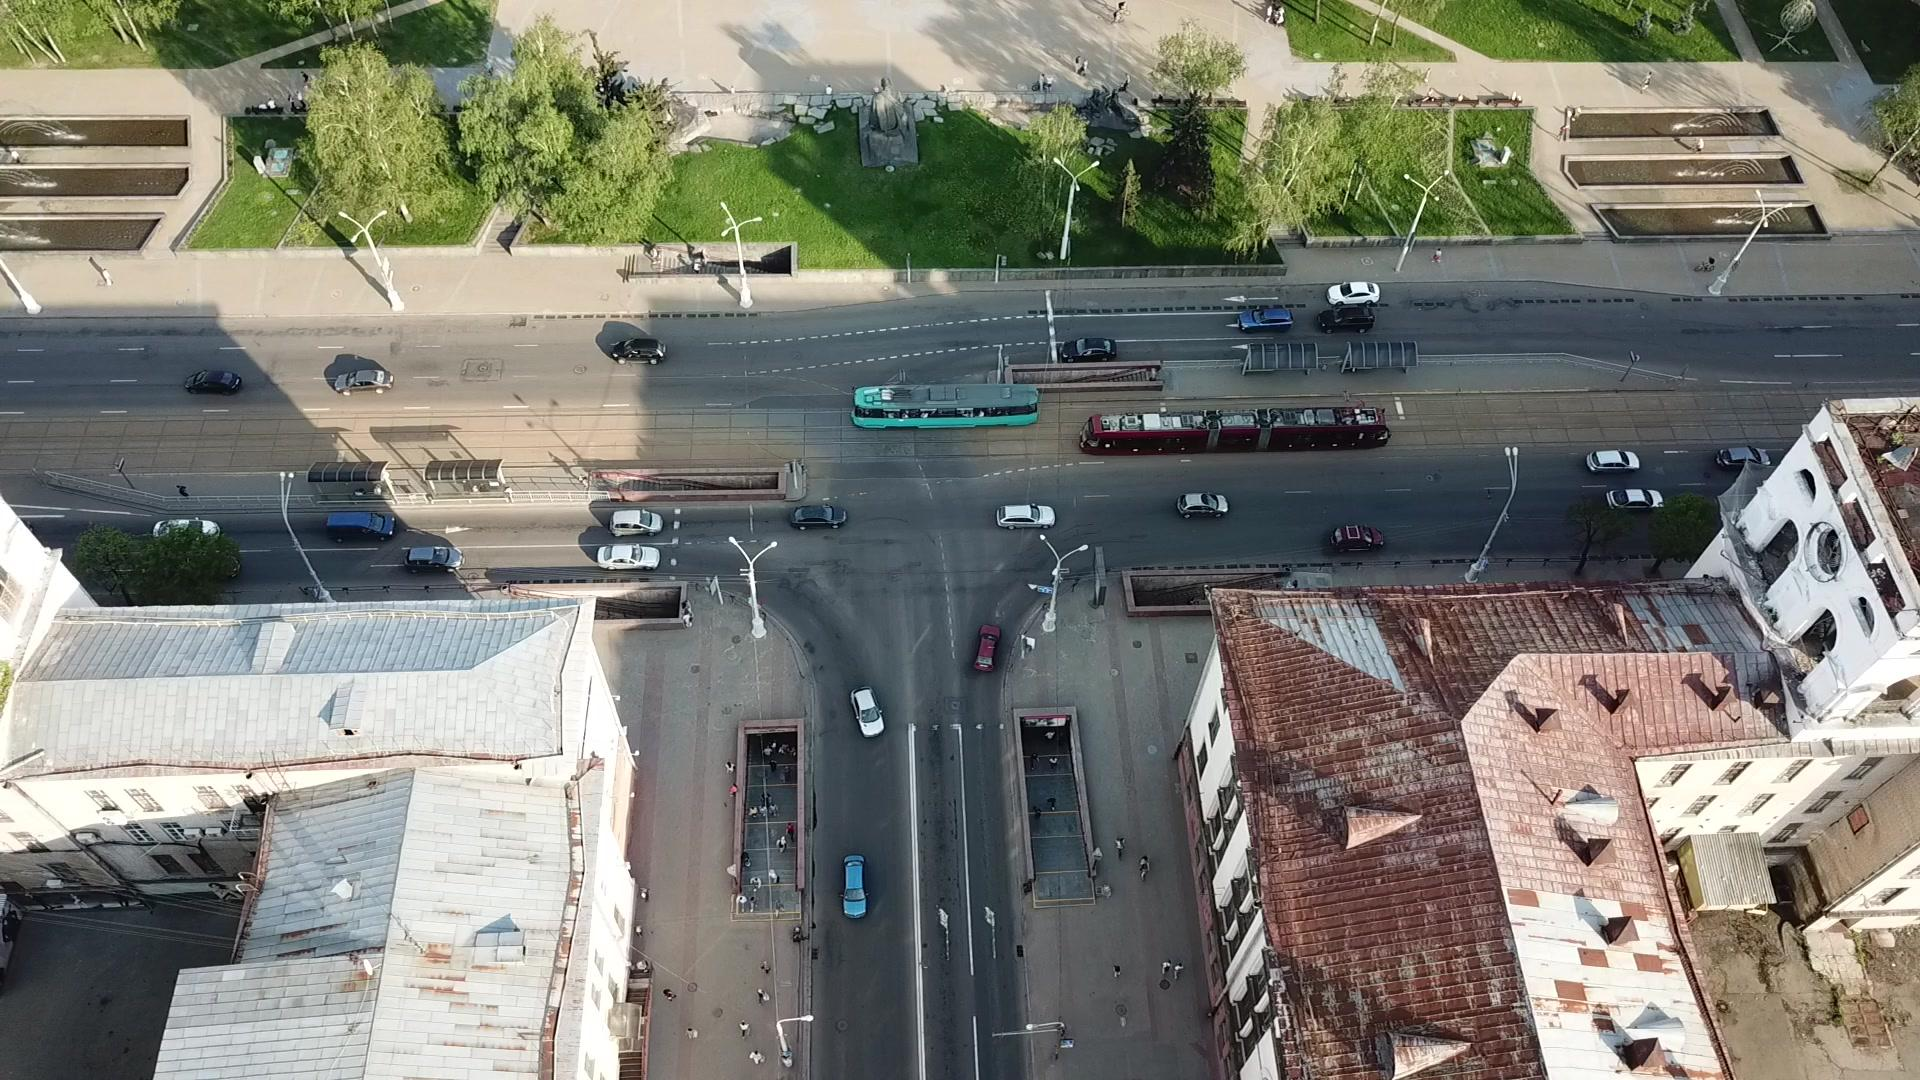car: (848, 685, 885, 739), (401, 547, 465, 574), (1057, 336, 1119, 363), (787, 503, 848, 530), (152, 519, 220, 543), (595, 545, 660, 570), (842, 854, 867, 919), (1317, 305, 1375, 333), (1329, 524, 1384, 553), (610, 339, 668, 366), (995, 504, 1057, 529), (610, 509, 664, 537), (1177, 491, 1231, 519), (1237, 307, 1293, 334), (334, 369, 394, 394), (183, 369, 241, 394), (1583, 447, 1641, 472), (1607, 489, 1666, 513), (1718, 445, 1771, 471), (972, 623, 1000, 671), (1325, 281, 1381, 304)
